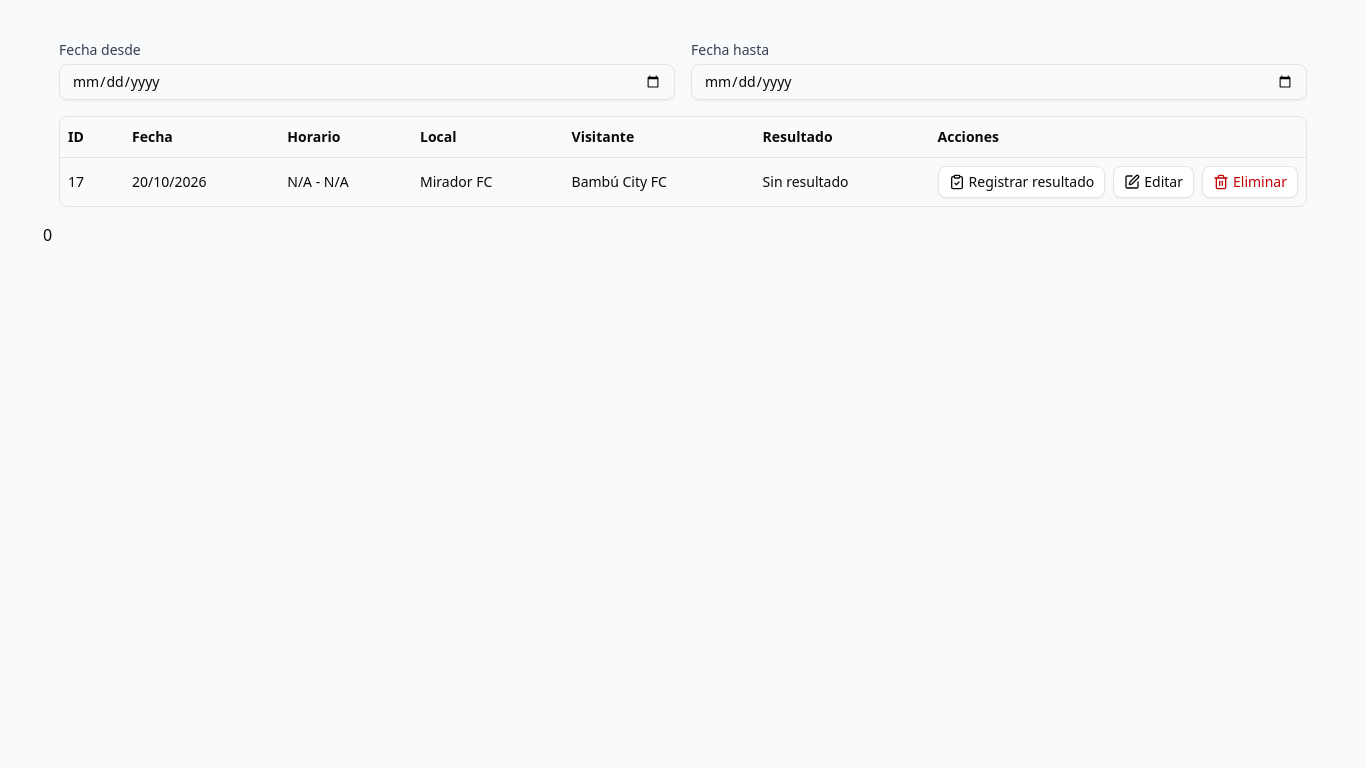
finalizes an explicit zero with one PUT and refreshes the schedule and standings
The width and height of the screenshot is (1366, 768).
Click the button "Registrar resultado" at (1021, 182), box [938, 166, 1105, 198]
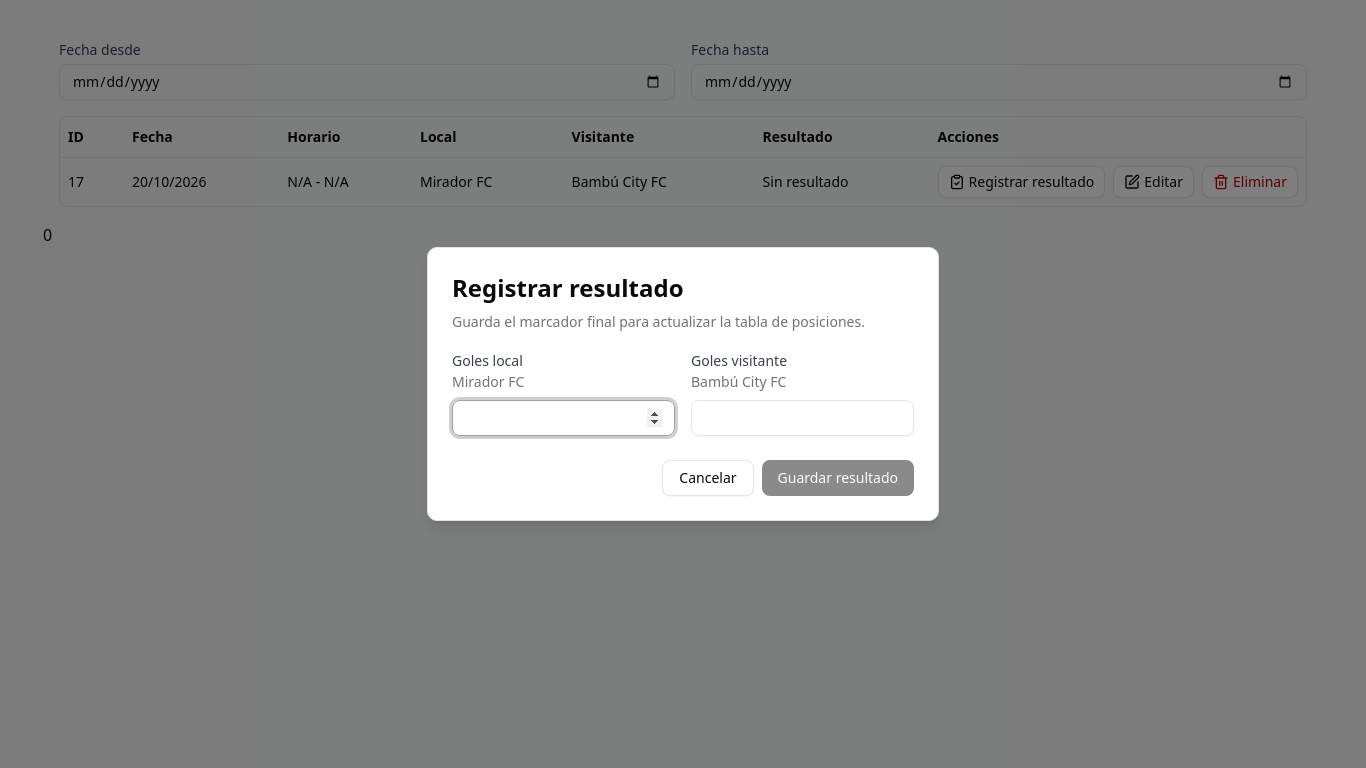
Expected: the text "Mirador FC" is shown, [452, 372, 524, 391]
Expected: the text "Bambú City FC" is shown, [691, 372, 786, 391]
Expected: the number field labelled "Goles local" is not empty
Type "2" into the number field labelled "Goles local" at (564, 418), box [452, 400, 675, 436]
Type "0" into the number field labelled "Goles visitante" at (802, 418), box [691, 400, 914, 436]
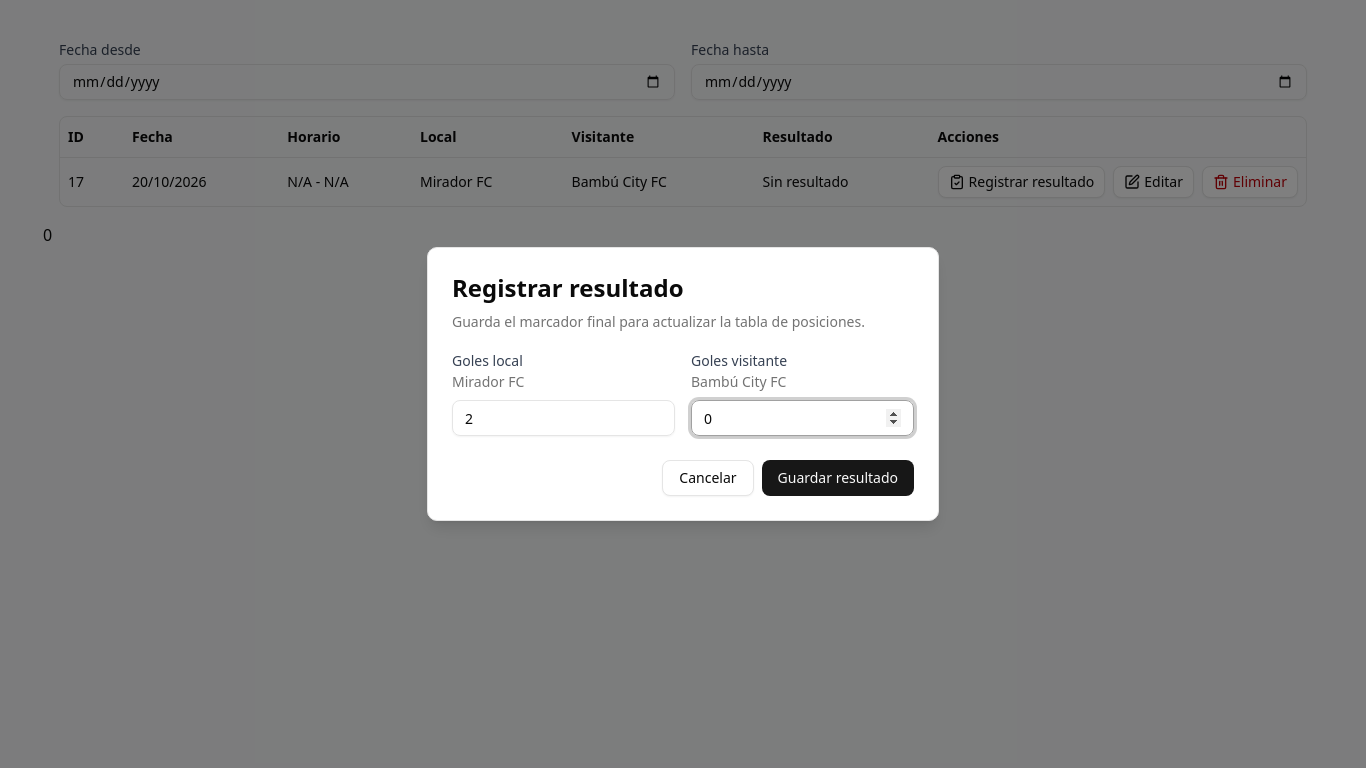
Click the button "Guardar resultado" at (838, 478), box [762, 460, 914, 496]
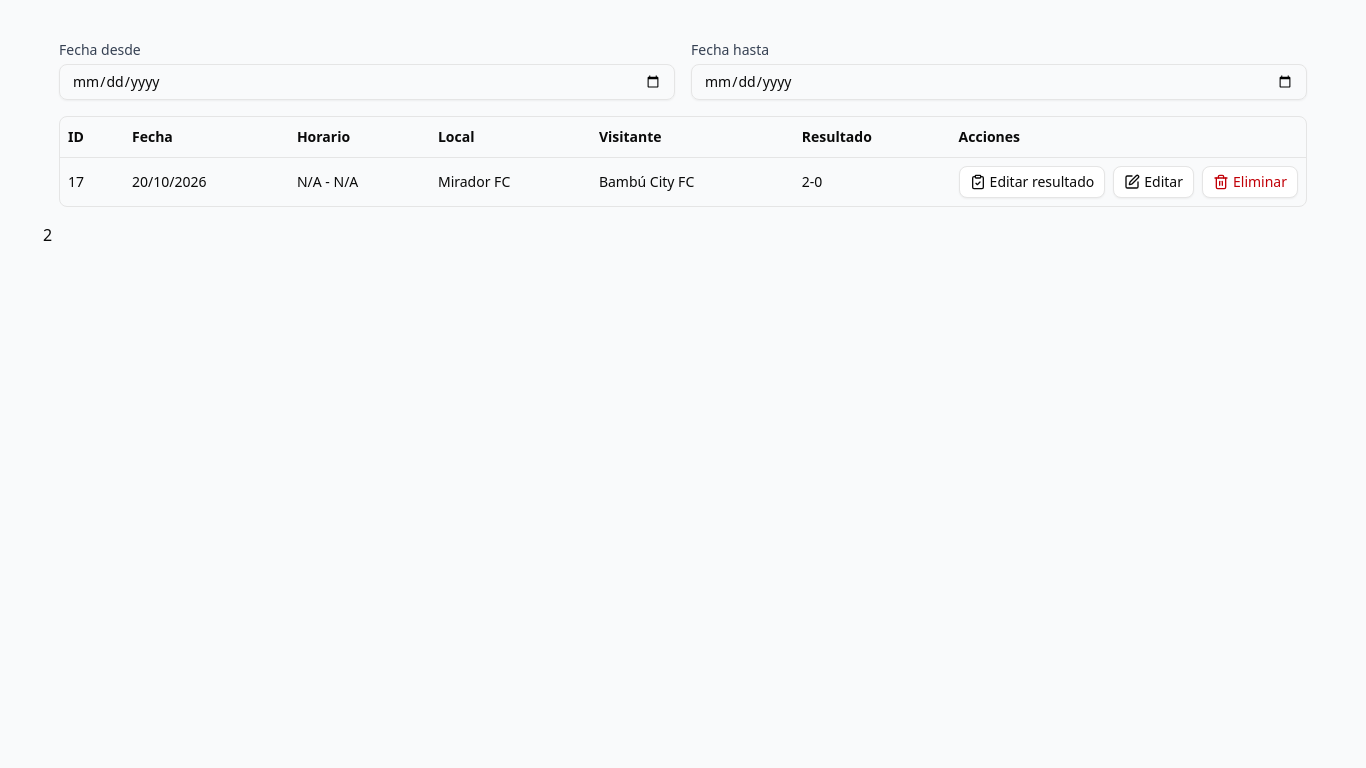
Expected: the cell "2-0" is shown, [794, 157, 951, 206]
Expected: the text named "Goles en la tabla" reads "2", [43, 224, 52, 246]
Expected: the dialog is gone
Click the button "Editar resultado" at (1032, 182), box [959, 166, 1105, 198]
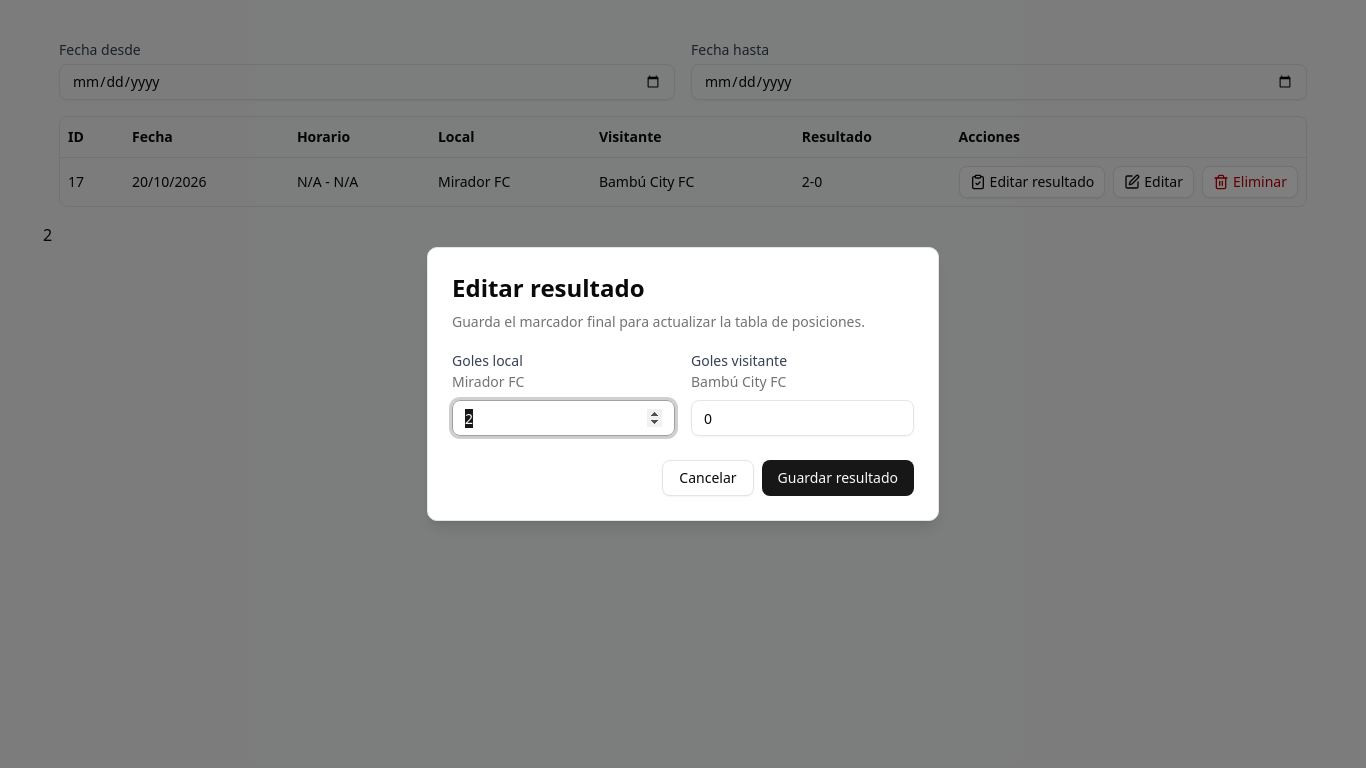
Expected: the number field labelled "Goles local" holds "2"
Expected: the number field labelled "Goles visitante" holds "0", [691, 400, 914, 436]
Replace the text in the number field labelled "Goles local" with "3" at (564, 418), box [452, 400, 675, 436]
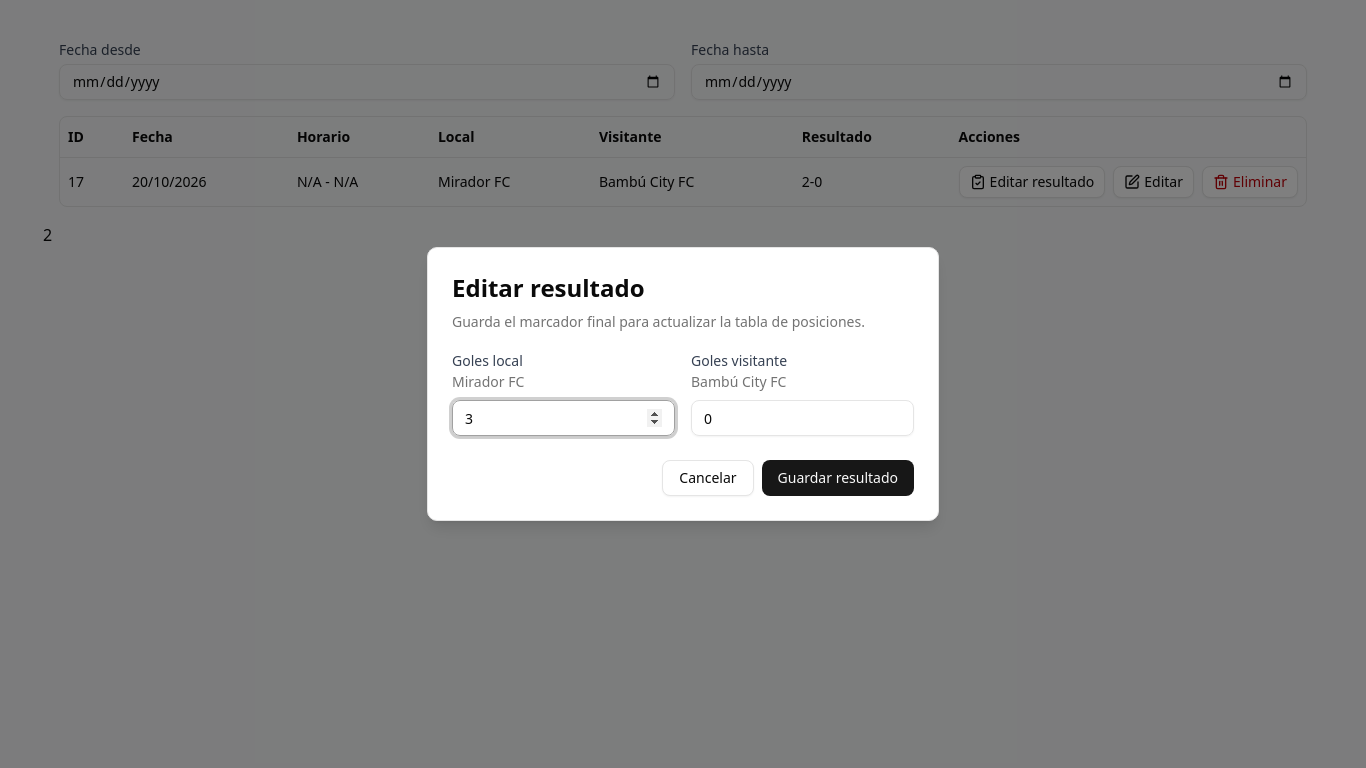
Click the button "Guardar resultado" at (838, 478), box [762, 460, 914, 496]
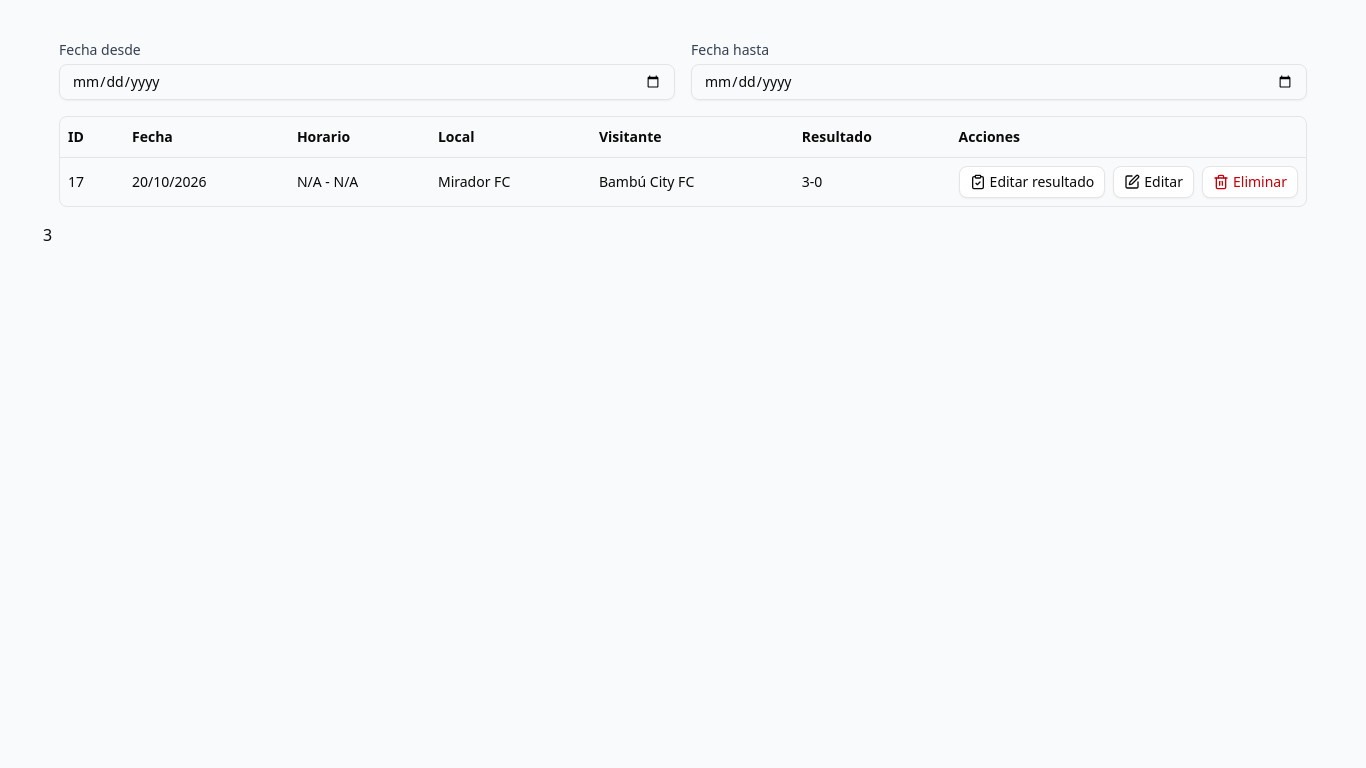
Expected: the cell "3-0" is shown, [794, 157, 951, 206]
Expected: the text named "Goles en la tabla" reads "3", [43, 224, 52, 246]
